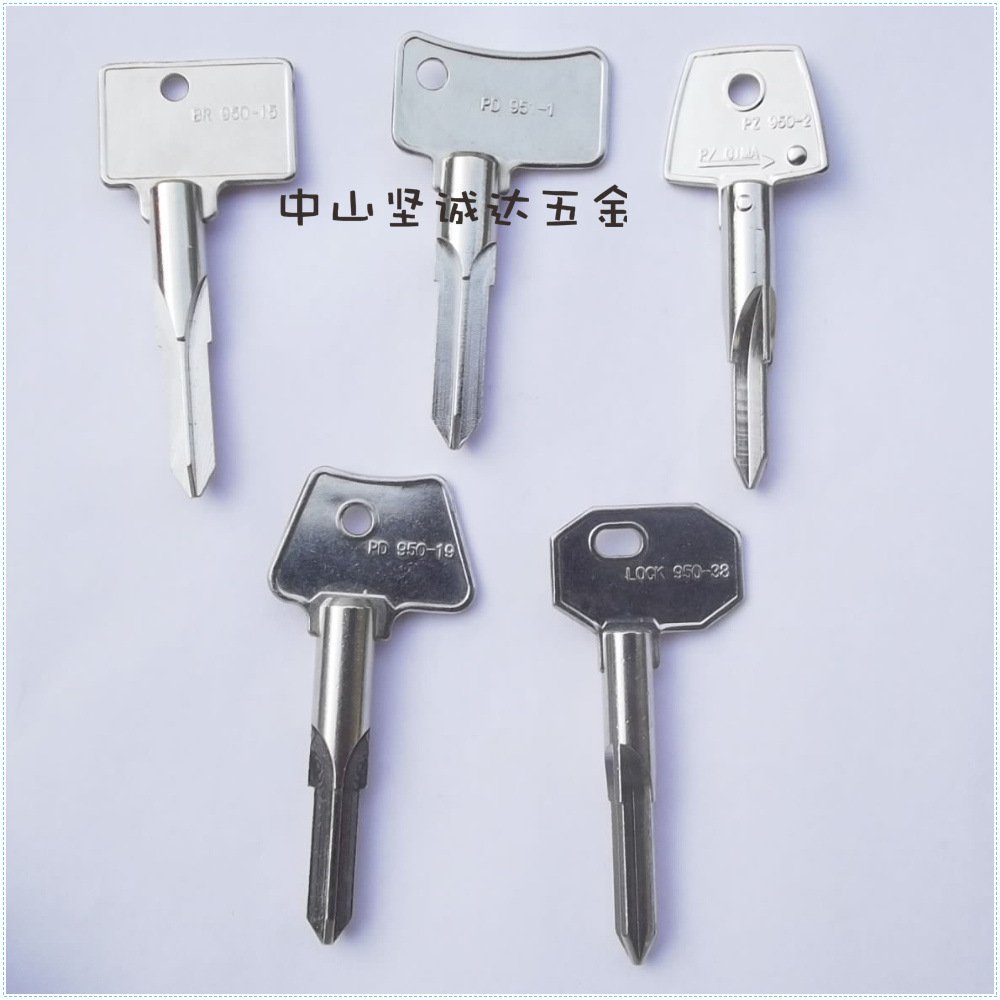key: (512, 498, 765, 966), (246, 464, 475, 953), (87, 41, 308, 519), (385, 19, 613, 461), (653, 36, 853, 498)
